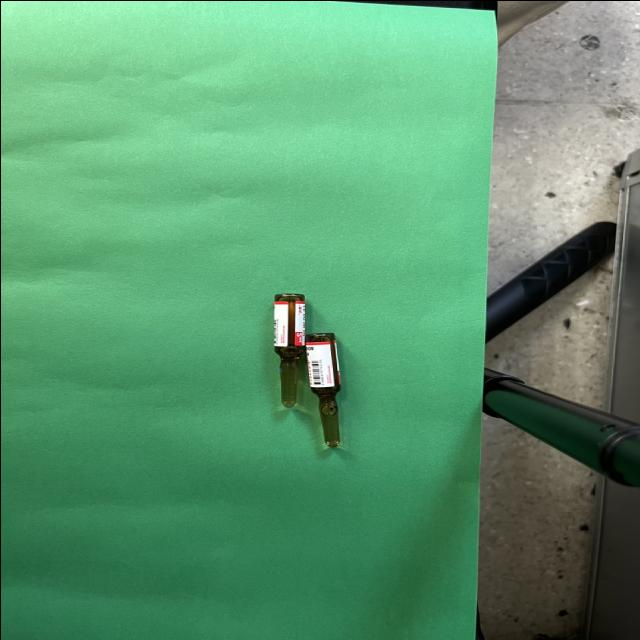Ampoules: (304, 332, 341, 448), (273, 293, 305, 408)
